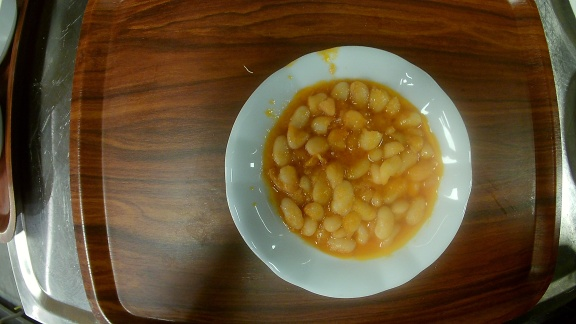kurufasulye: (223, 46, 473, 298)
